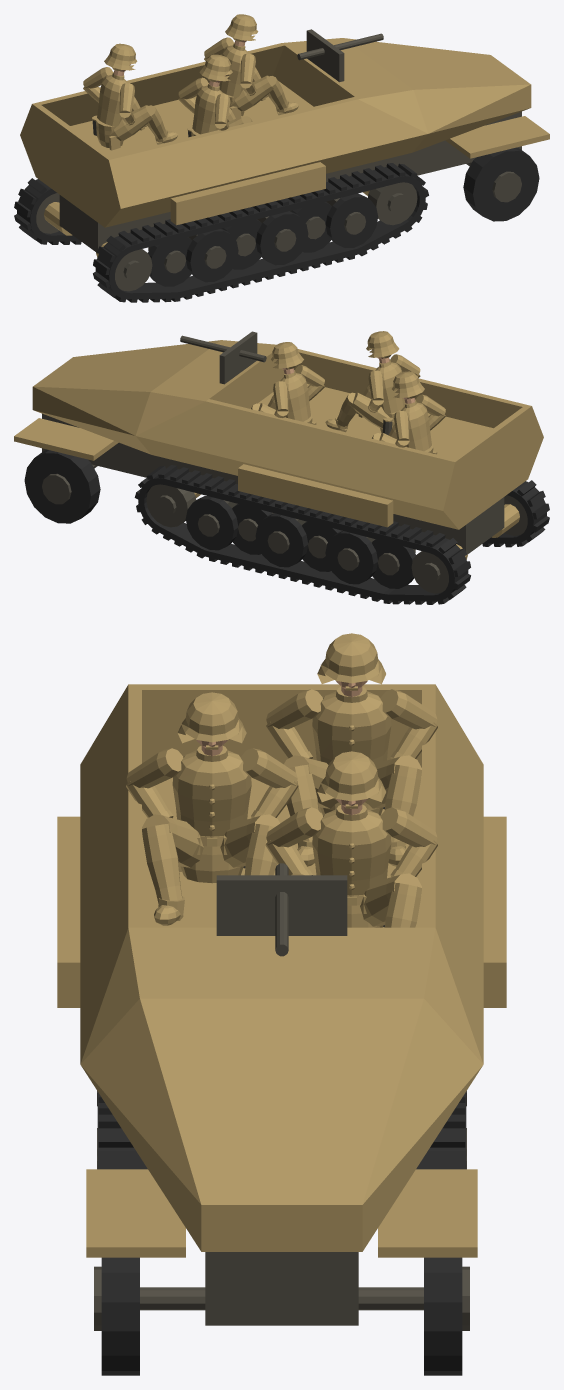
The model's file is de_sdkfz_251.obj.
3 views of the same model, one above another, from view 1: azimuth 30°, elevation 25°; view 2: azimuth 150°, elevation 25°; view 3: azimuth 270°, elevation 25° (orthographic). The views are drawn at different scales.
Bounding box in the file's own units: 5.43 × 2.39 × 2.34.
